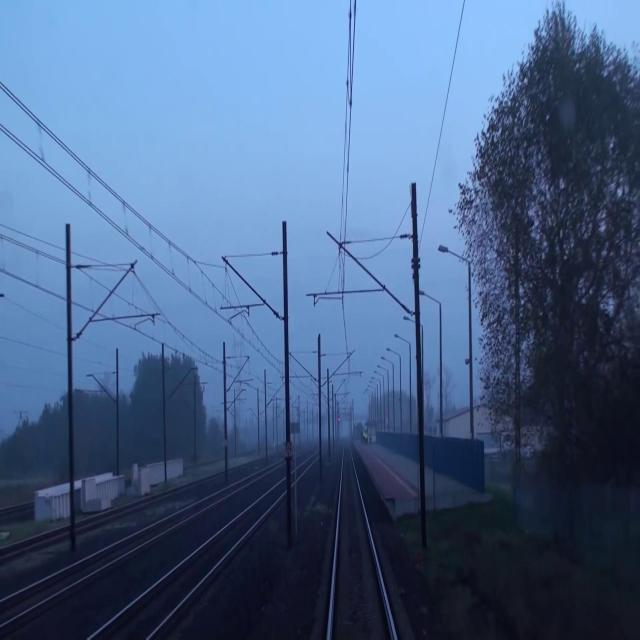rail-track: (95, 484, 285, 639), (0, 522, 170, 619), (332, 447, 392, 639)
